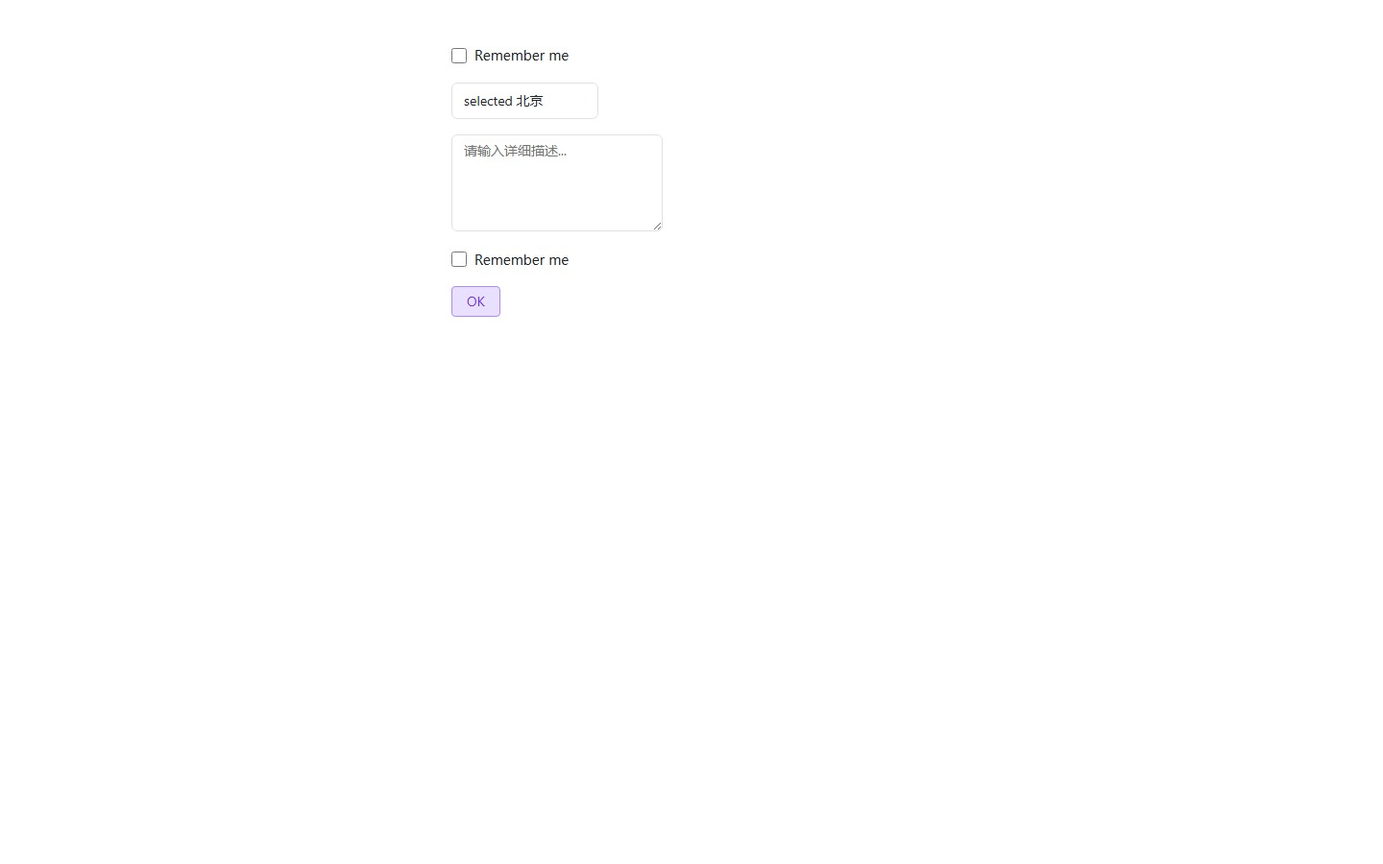button: (451, 286, 500, 317)
checkbox: (451, 48, 467, 63), (451, 252, 467, 267)
icon: (474, 46, 569, 64), (474, 250, 569, 268)
radio: (451, 46, 569, 64), (451, 250, 569, 268)
select: (451, 82, 598, 119)
textarea: (451, 134, 663, 231)
